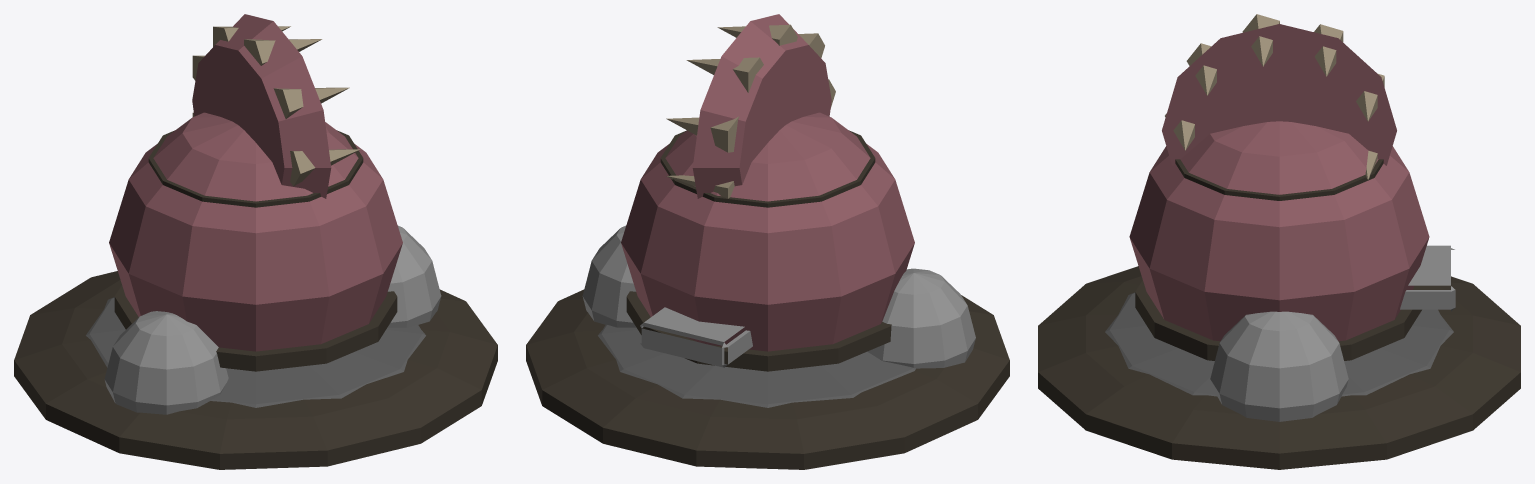
Rendered from bl_gut.glb.
3 views of the same model, side by side, from view 1: azimuth 30°, elevation 25°; view 2: azimuth 150°, elevation 25°; view 3: azimuth 270°, elevation 25° (orthographic). The views are drawn at different scales.
Parts seen in each view (by area): view 1: body; view 2: body; view 3: body.
Part boxes in pixels (<box>): body: <box>14,14,497,469</box>; body: <box>526,14,1009,469</box>; body: <box>1038,14,1520,469</box>.
Size of the model in its own units: 41.18 by 34.77 by 40.15.
